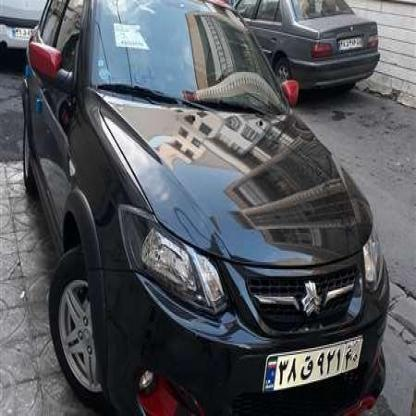Car: (19, 4, 393, 416), (214, 0, 384, 94), (0, 0, 58, 81)
